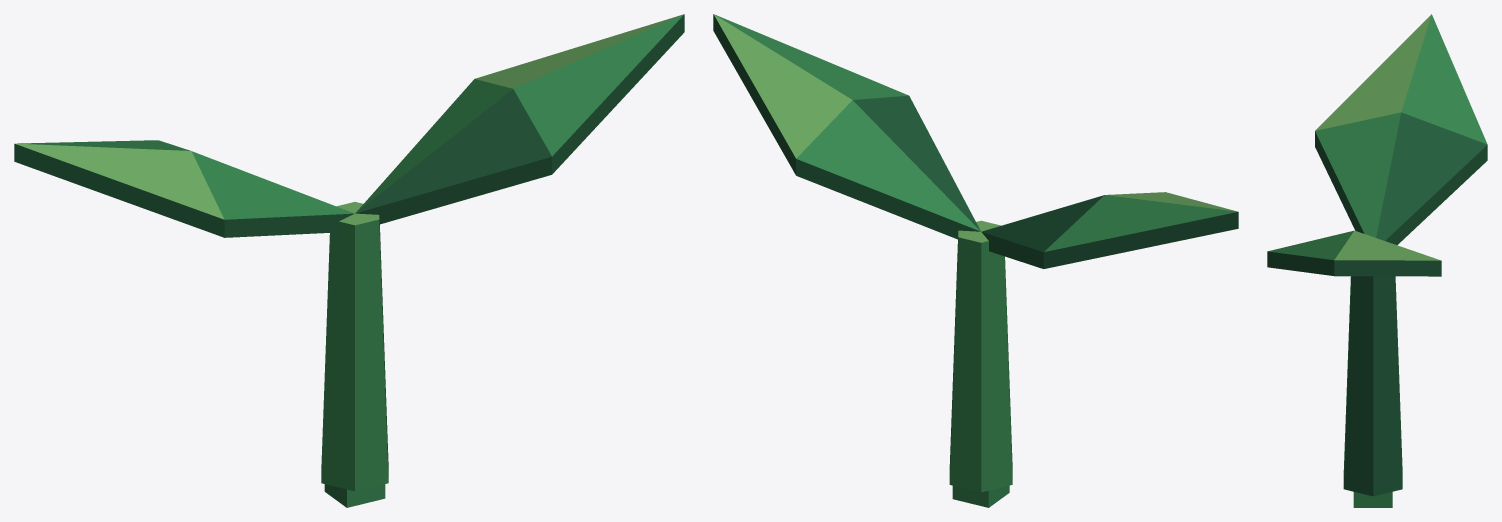
The model's file is pumpkin_stage_01.fbx.
3 views of the same model, side by side, from view 1: azimuth 30°, elevation 25°; view 2: azimuth 150°, elevation 25°; view 3: azimuth 270°, elevation 25° (orthographic). The views are drawn at different scales.
Parts seen in each view (by area): view 1: pumpkin_stage_01__Foliage, pumpkin_stage_01__Origin; view 2: pumpkin_stage_01__Foliage, pumpkin_stage_01__Origin; view 3: pumpkin_stage_01__Foliage, pumpkin_stage_01__Origin.
Boxes of the visible parts, x1=… form: pumpkin_stage_01__Foliage: x1=14, y1=14, x2=684, y2=491; pumpkin_stage_01__Origin: x1=324, y1=484, x2=385, y2=507; pumpkin_stage_01__Foliage: x1=713, y1=14, x2=1238, y2=492; pumpkin_stage_01__Origin: x1=952, y1=485, x2=1009, y2=507; pumpkin_stage_01__Foliage: x1=1267, y1=14, x2=1487, y2=496; pumpkin_stage_01__Origin: x1=1353, y1=492, x2=1392, y2=507.
Size of the model in its own units: 0.64 by 0.42 by 0.2258.
1 material, 1 textured.
